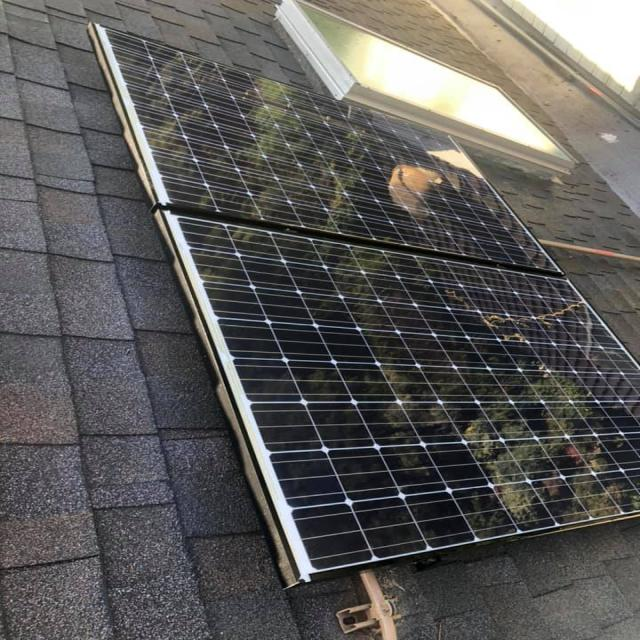clean-solar-panel: (90, 25, 638, 584)
